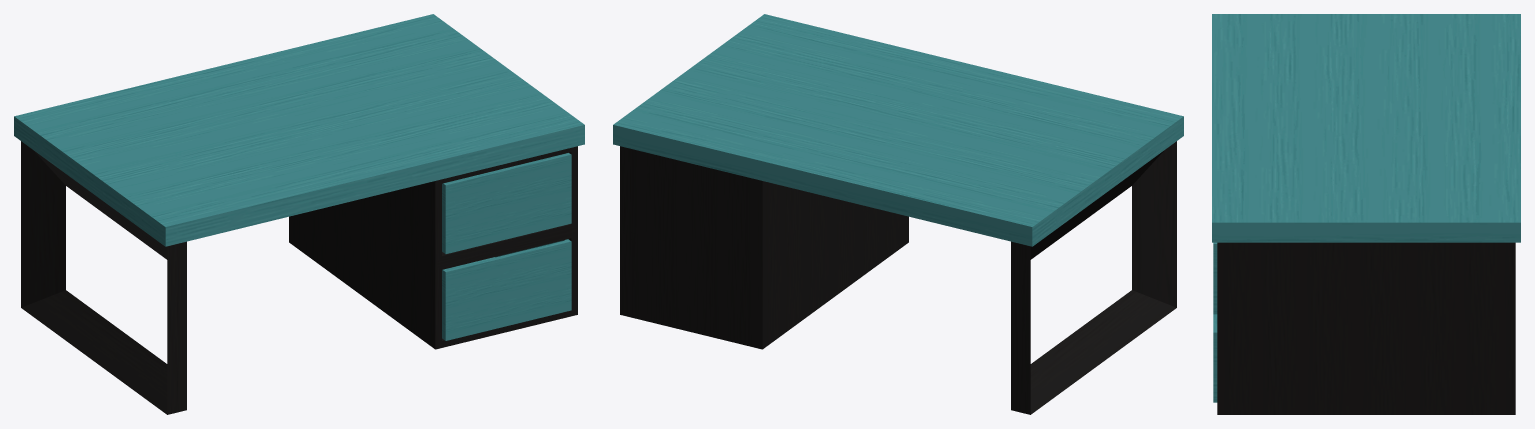
The model's file is Desk_W_Drawers_C.FBX.
The picture shows the model from 3 angles, left to right: view 1: azimuth 30°, elevation 25°; view 2: azimuth 150°, elevation 25°; view 3: azimuth 270°, elevation 25°; orthographic projection.
Parts seen in each view (by area): view 1: Desk_With_Drawers, Drawer_B, Drawer_A; view 2: Desk_With_Drawers; view 3: Desk_With_Drawers, Drawer_B, Drawer_A.
Part boxes in pixels (x1,y1,x2,y2): Desk_With_Drawers: (14,14,584,414); Drawer_B: (442,239,571,340); Drawer_A: (442,153,571,253); Desk_With_Drawers: (613,14,1183,414); Desk_With_Drawers: (1212,14,1520,414); Drawer_B: (1213,314,1217,402); Drawer_A: (1213,242,1217,314).
Size of the model in its own units: 227 by 98.47 by 142.
